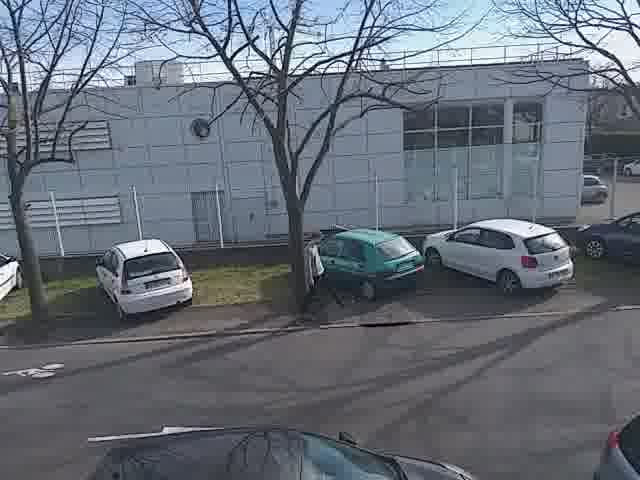persona: (297, 227, 351, 324)
